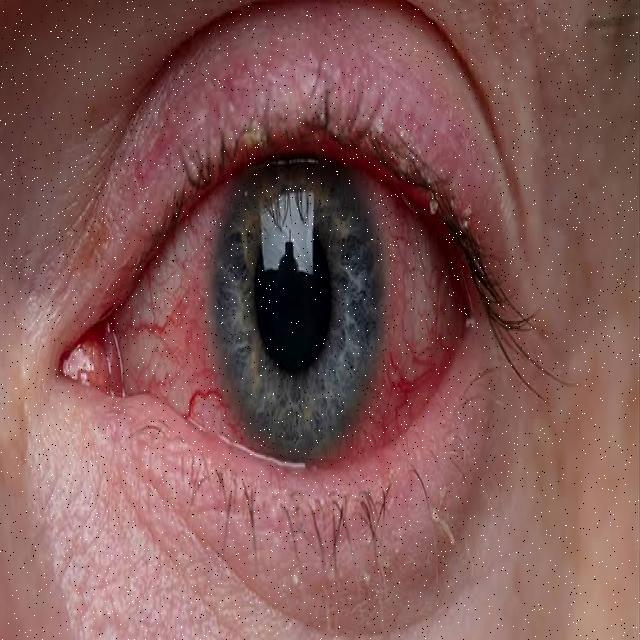Conjunctivitis: (63, 188, 511, 462)
